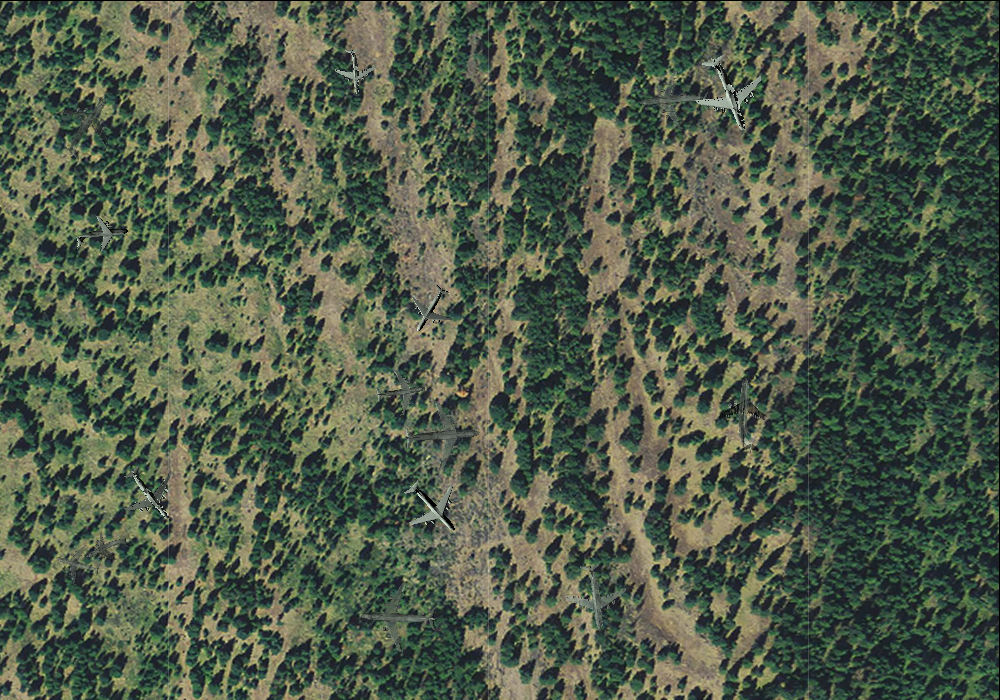plane: (678, 42, 777, 144), (41, 79, 133, 172), (388, 464, 475, 551), (107, 452, 191, 537), (401, 397, 482, 473), (358, 580, 438, 655), (636, 64, 713, 137), (558, 559, 631, 634), (714, 376, 780, 454), (397, 275, 463, 343), (371, 364, 429, 419), (78, 522, 135, 576), (50, 538, 105, 591), (72, 211, 130, 261), (330, 46, 377, 95)
